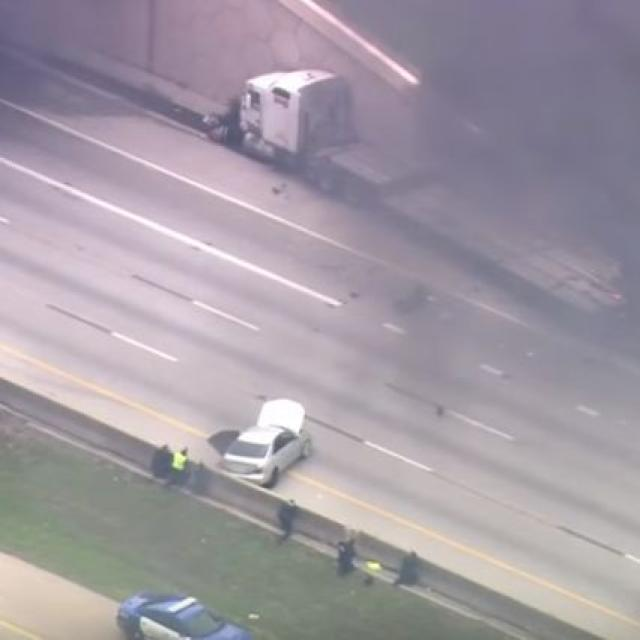traffic_incident: (228, 74, 638, 330), (203, 394, 320, 486)
